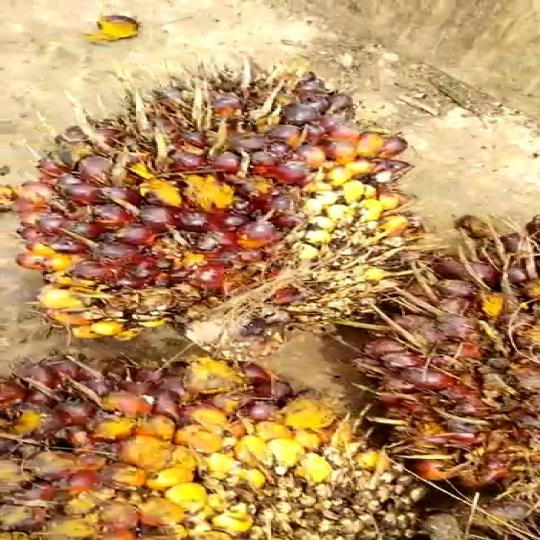masak: (0, 62, 408, 351), (0, 344, 426, 540)
